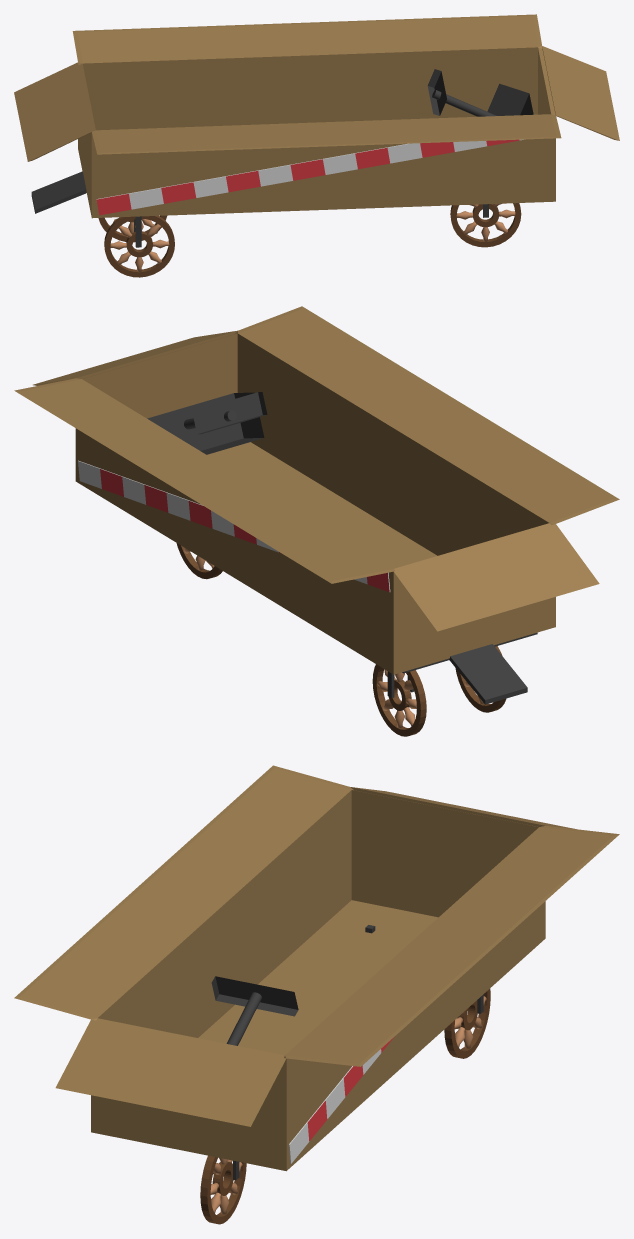
File: boxwagon.gltf
The picture shows the model from 3 angles, top to bottom: view 1: azimuth 30°, elevation 25°; view 2: azimuth 150°, elevation 25°; view 3: azimuth 270°, elevation 25°; orthographic projection. The views are drawn at different scales.
Visible parts, largest first — view 1: Cube.036; view 2: Cube.036; view 3: Cube.036.
Boxes of the visible parts, x1,y1,x2,y2 form: Cube.036: (14,14,619,277); Cube.036: (14,306,619,736); Cube.036: (14,765,619,1224).
Bounding box in the file's own units: 12.77 × 3.89 × 9.74.
